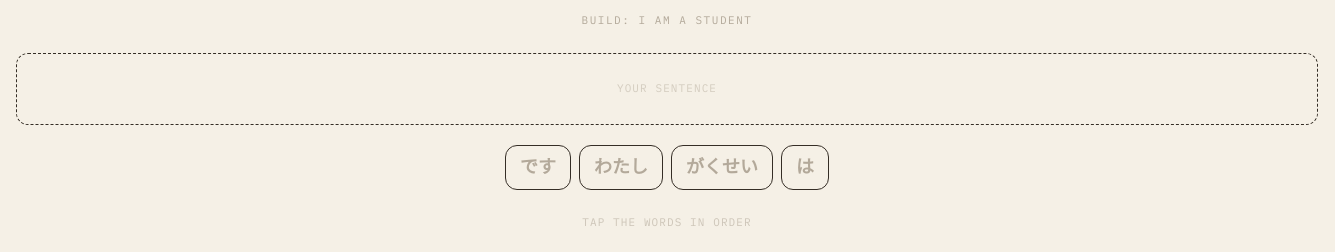
Test: BuildStep › rejects a wrong order and lets tiles be taken back
Click the button "です": (538, 167) x1=505 y1=144 x2=571 y2=190
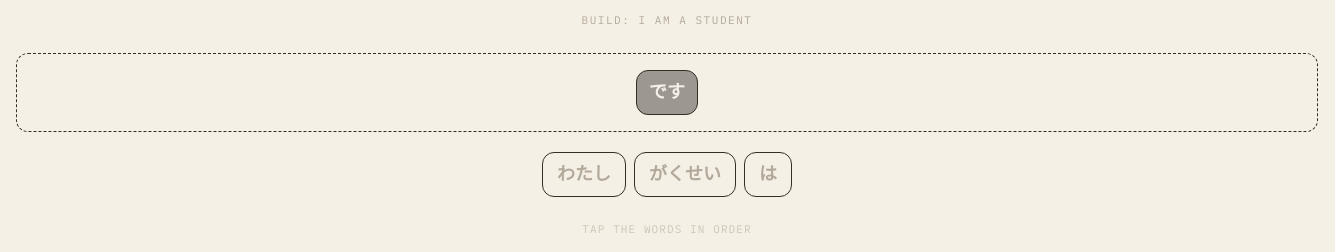
Click the button "わたし": (584, 174) x1=542 y1=152 x2=626 y2=196
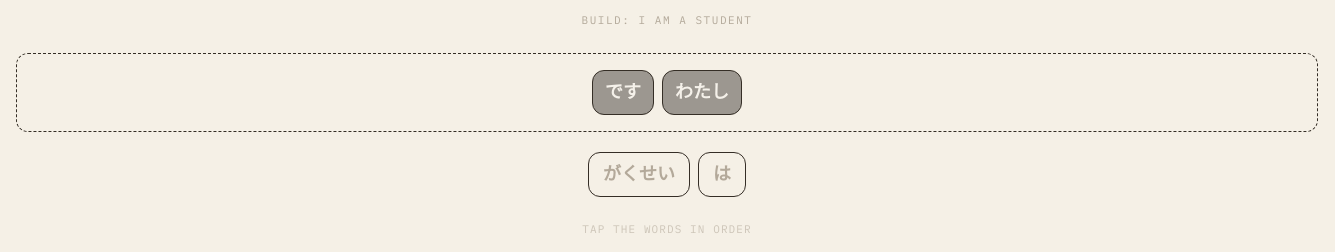
Click the button "は": (722, 174) x1=698 y1=152 x2=746 y2=196
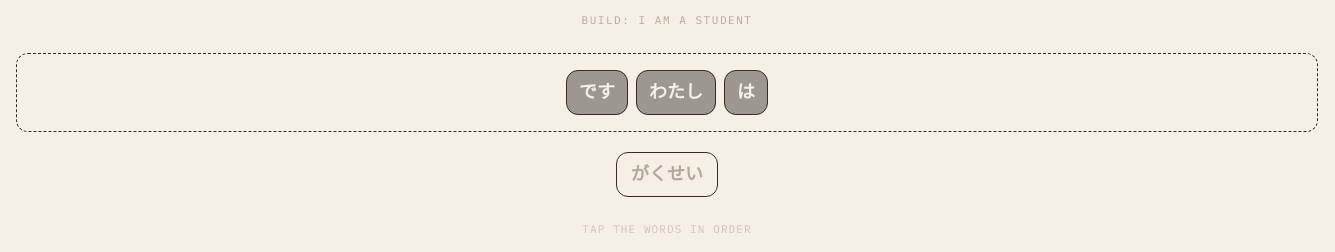
Click the button "がくせい": (667, 174) x1=616 y1=152 x2=718 y2=196
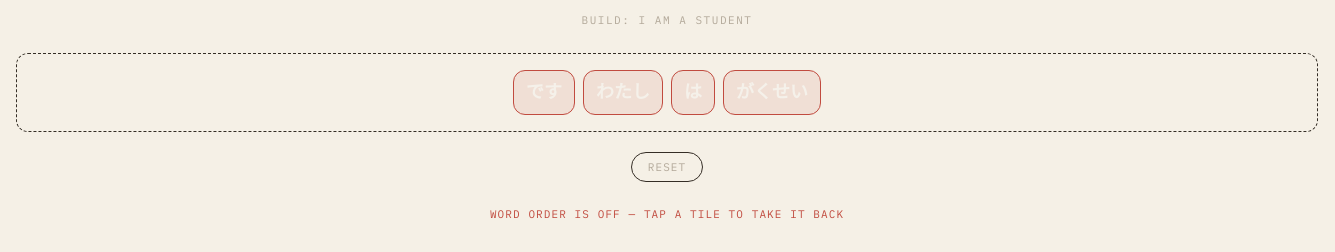
Check: the text "Word order is off — tap a tile to take it back" is shown, box x1=490 y1=207 x2=844 y2=221
Click the button "です": (544, 92) x1=513 y1=70 x2=575 y2=114
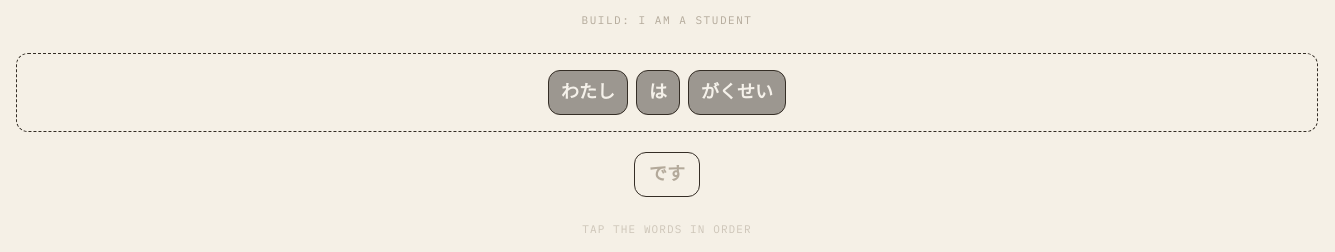
Check: the text "Tap the words in order" is shown, box x1=582 y1=222 x2=752 y2=236
